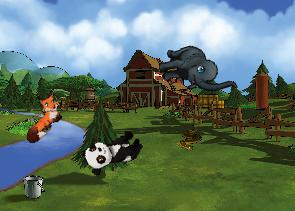elephant: (154, 34, 237, 108)
fox: (10, 86, 72, 146)
panda: (79, 124, 146, 178)
